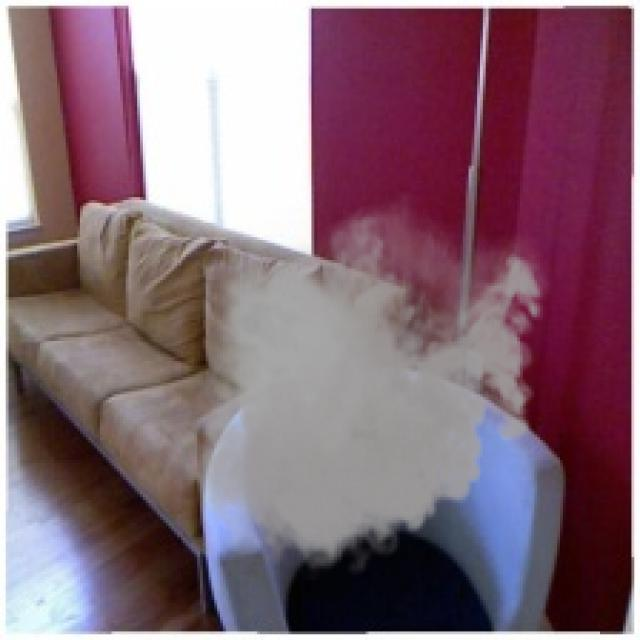smoke: (186, 191, 554, 583)
